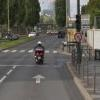Motorcycle: (25, 41, 50, 76)
